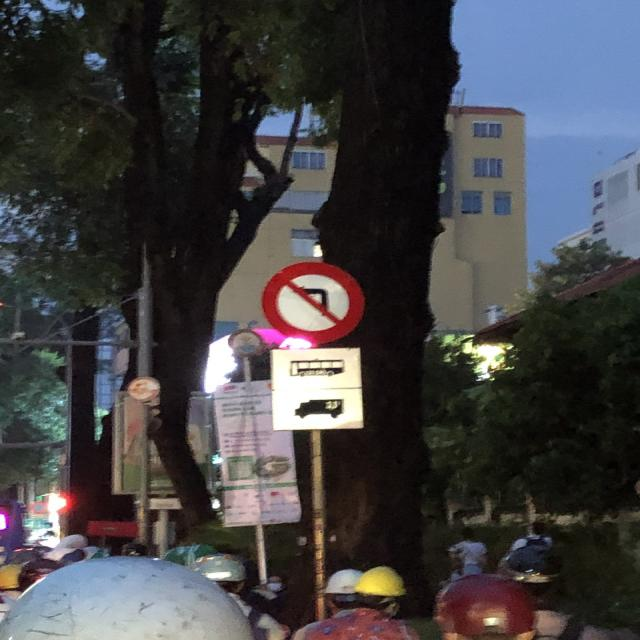Bien bao cam re trai: (251, 258, 367, 345)
